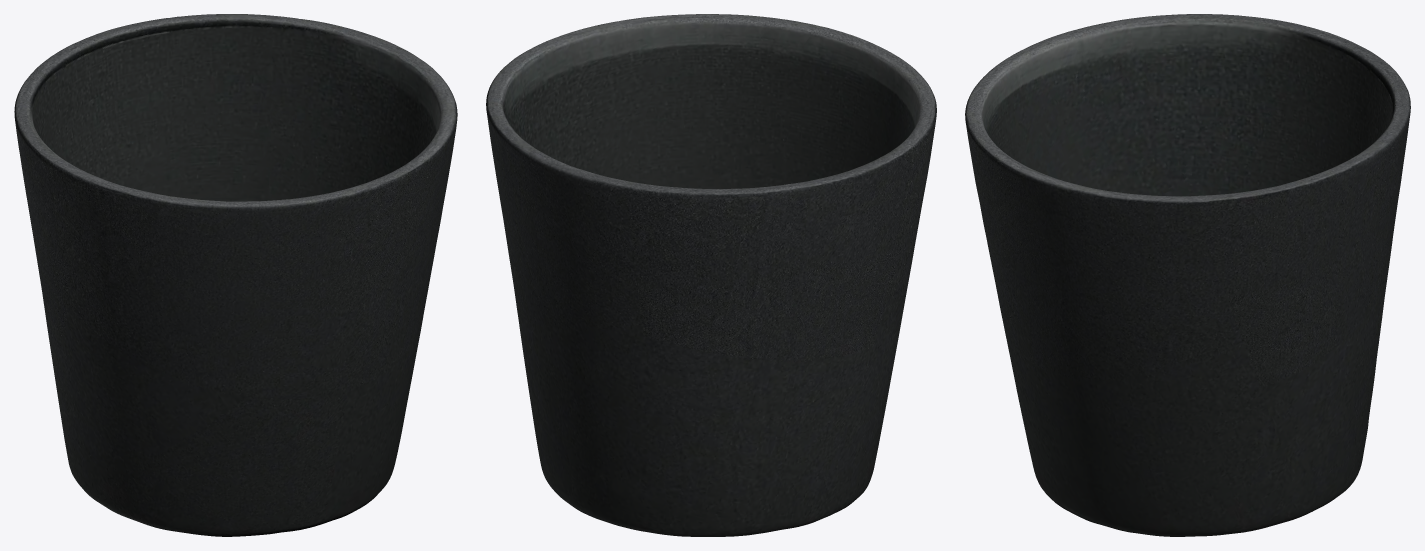
The model's file is conica.glb.
The picture shows the model from 3 angles, left to right: view 1: azimuth 30°, elevation 25°; view 2: azimuth 150°, elevation 25°; view 3: azimuth 270°, elevation 25°; orthographic projection.
Parts seen in each view (by area): view 1: tripo_node_ee0568a4-9dc0-462f-a2e4-2a9ff4dca338; view 2: tripo_node_ee0568a4-9dc0-462f-a2e4-2a9ff4dca338; view 3: tripo_node_ee0568a4-9dc0-462f-a2e4-2a9ff4dca338.
Boxes of the visible parts, x1,y1,x2,y2 form: tripo_node_ee0568a4-9dc0-462f-a2e4-2a9ff4dca338: (14,14,457,536); tripo_node_ee0568a4-9dc0-462f-a2e4-2a9ff4dca338: (486,14,936,536); tripo_node_ee0568a4-9dc0-462f-a2e4-2a9ff4dca338: (965,14,1410,536).
Bounding box in the file's own units: 0.9803 × 0.9017 × 0.977.
1 material, 1 textured.
